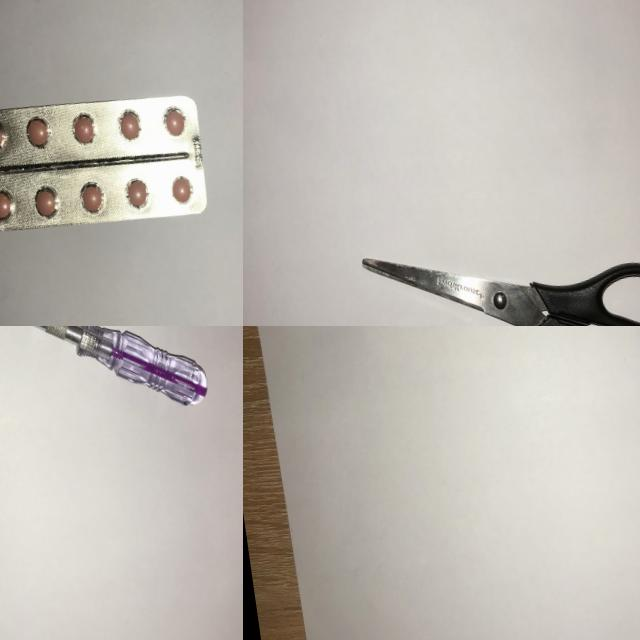scissors: (353, 206, 640, 326)
screwdriver: (25, 326, 216, 432)
tablets: (0, 77, 221, 250)
